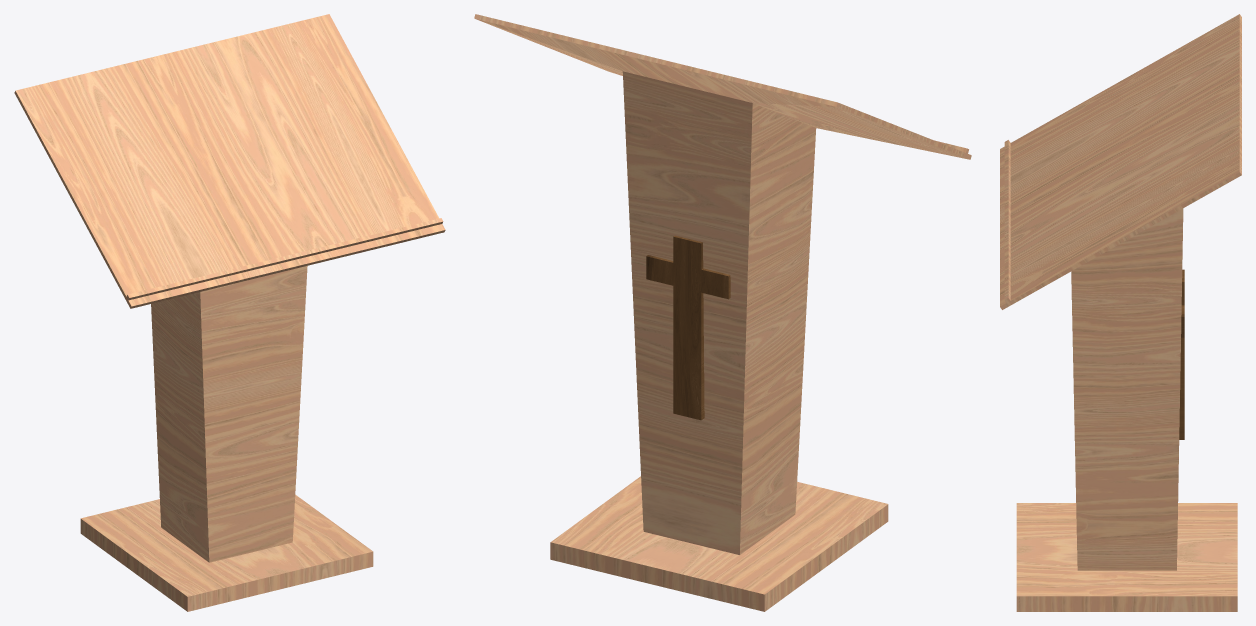
File: churchlectern.obj
3 views of the same model, side by side, from view 1: azimuth 30°, elevation 25°; view 2: azimuth 150°, elevation 25°; view 3: azimuth 270°, elevation 25° (orthographic). The views are drawn at different scales.
Visible parts, largest first — view 1: Cube_Cube.001; view 2: Cube_Cube.001, Cube.001_Cube.002; view 3: Cube_Cube.001, Cube.001_Cube.002.
Boxes of the visible parts, x1=… form: Cube_Cube.001: x1=14, y1=14, x2=445, y2=611; Cube_Cube.001: x1=474, y1=14, x2=971, y2=611; Cube.001_Cube.002: x1=646, y1=235, x2=730, y2=420; Cube_Cube.001: x1=1000, y1=14, x2=1241, y2=611; Cube.001_Cube.002: x1=1179, y1=269, x2=1184, y2=439.
Bounding box in the file's own units: 0.8334 × 1.16 × 0.5392.
Materials: 2 (2 with a texture image).
